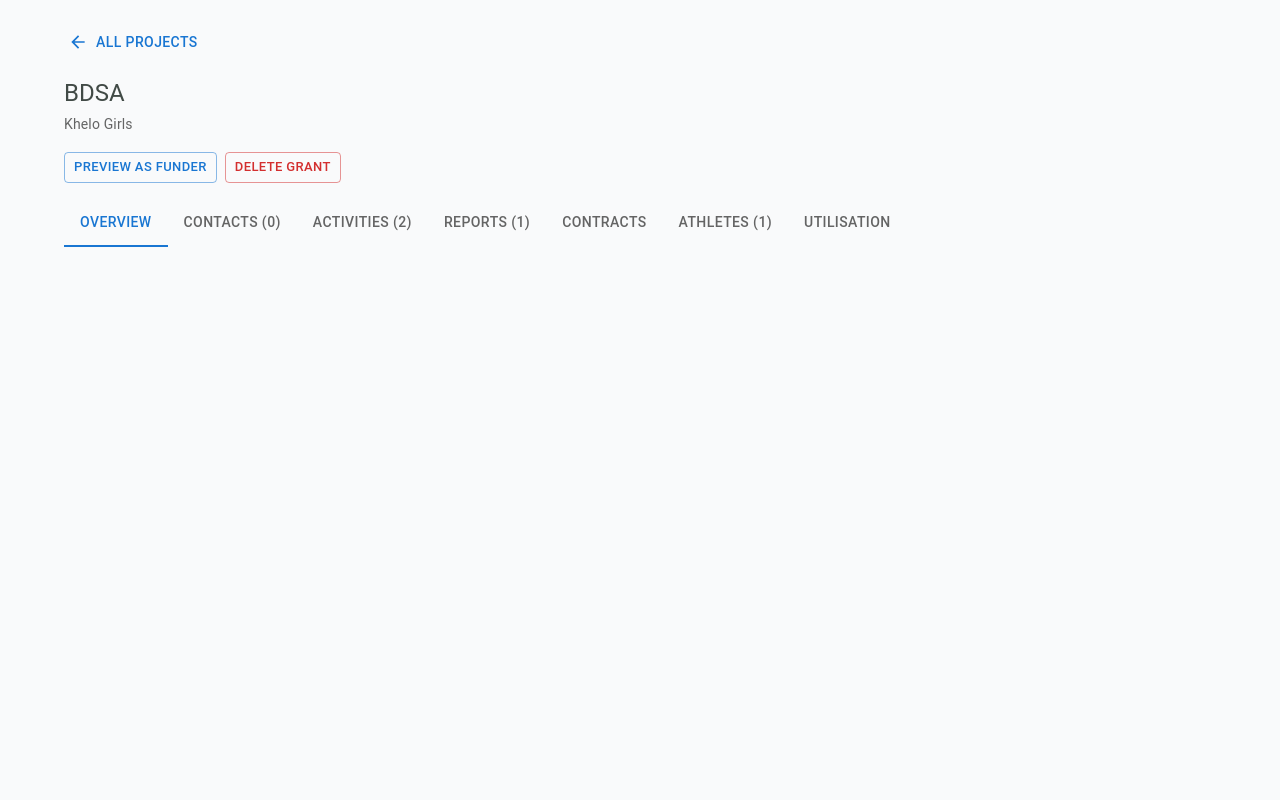
Test case: a refusal shows the server detail and stays on the grant
The width and height of the screenshot is (1280, 800).
expect the heading "BDSA" is shown: met, box top-left (64, 78), bottom-right (125, 106)
Click the button "Delete grant" at point(283, 168), box top-left (225, 152), bottom-right (341, 183)
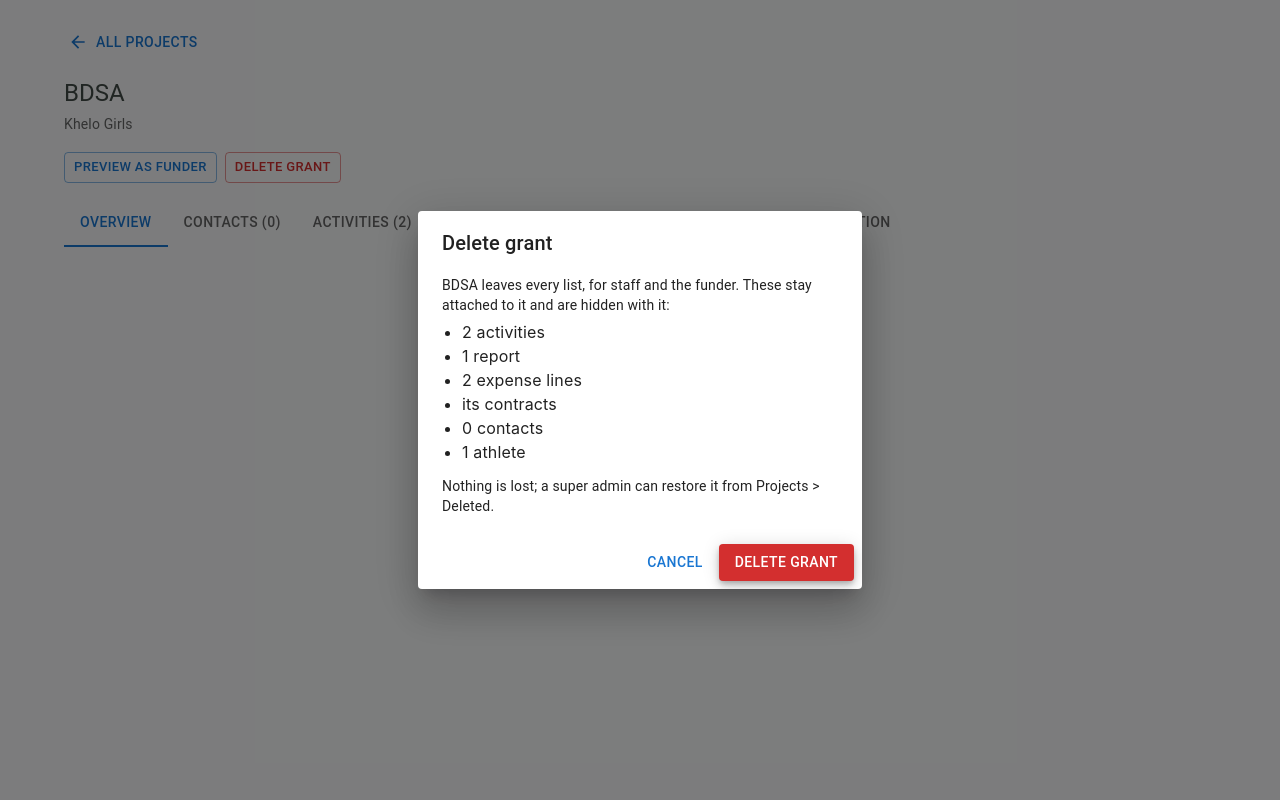
Click the button "Delete grant" at point(786, 562), box top-left (719, 544), bottom-right (854, 581)
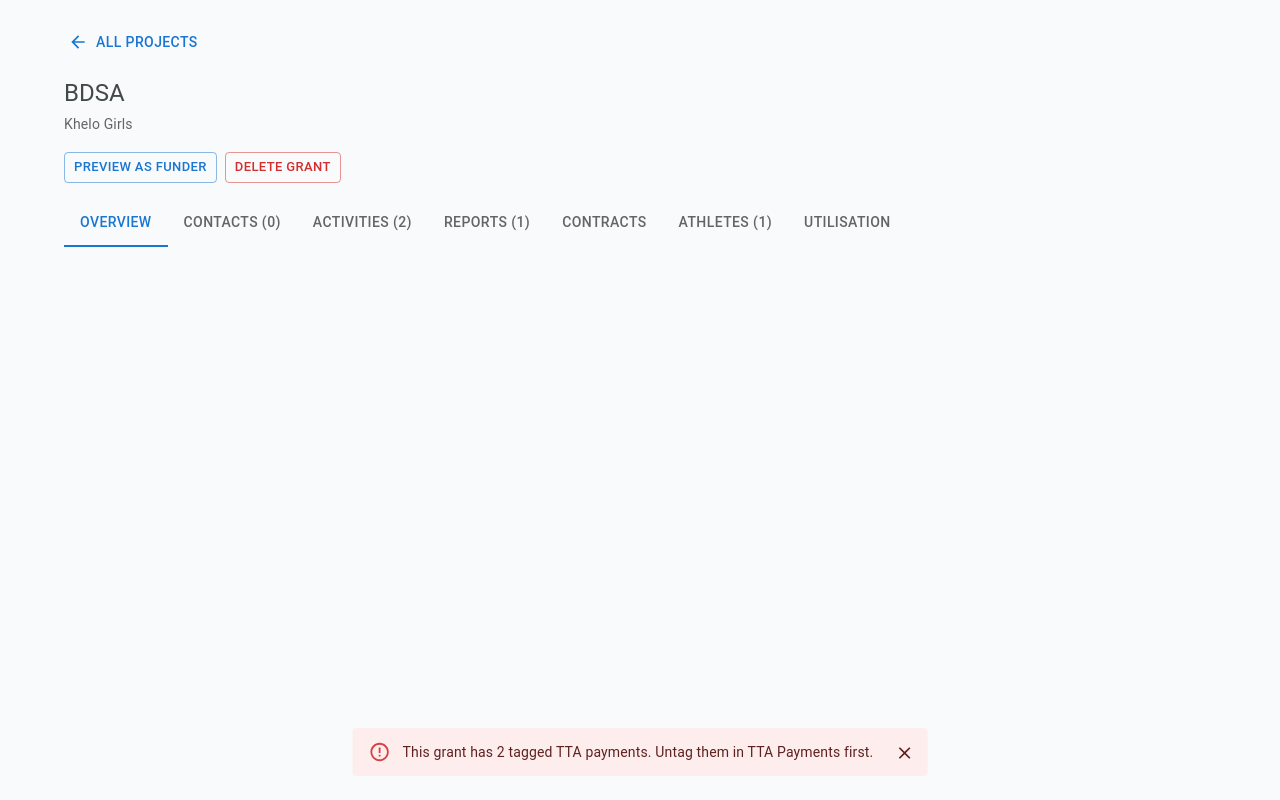
expect the text "This grant has 2 tagged TTA payments. Untag them in TTA Payments first." is shown: met, box top-left (403, 744), bottom-right (873, 760)
